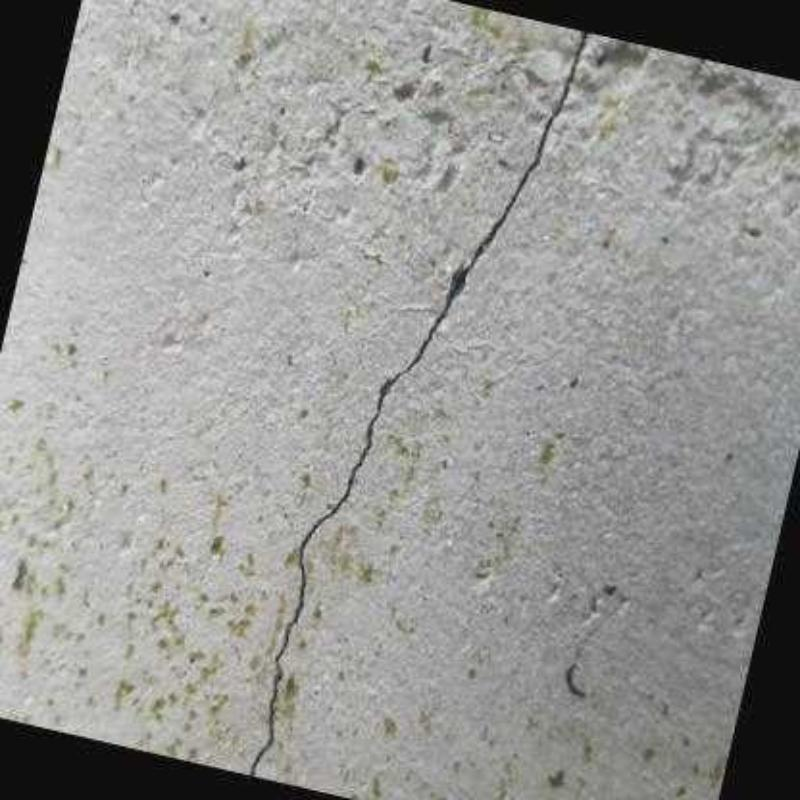pothole: (249, 32, 588, 777)
